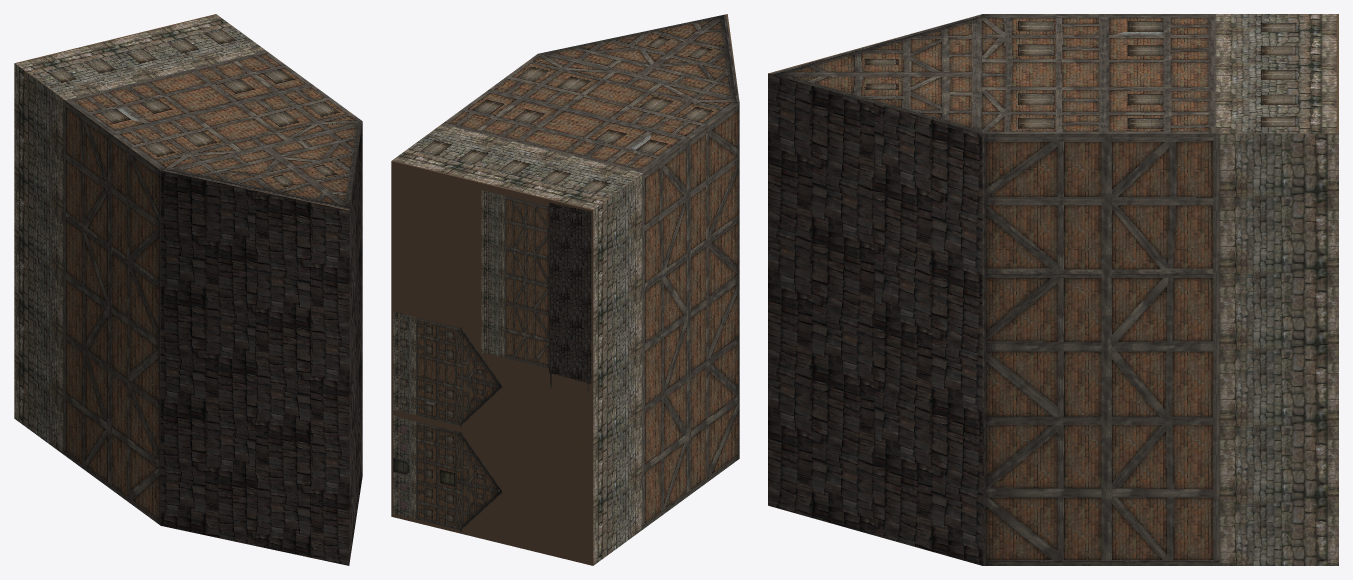
File: fachwerkhaus2_3_LOD.fbx
3 renders of one model, left to right at view 1: azimuth 30°, elevation 25°; view 2: azimuth 150°, elevation 25°; view 3: azimuth 270°, elevation 25°, orthographic. The views are drawn at different scales.
Visible parts, largest first — view 1: object; view 2: object; view 3: object.
Boxes of the visible parts, box(x1,y1,x2,y2) form: object: box(14, 14, 362, 565); object: box(391, 14, 739, 565); object: box(768, 14, 1338, 565).
Size of the model in its own units: 169 by 285 by 341.
